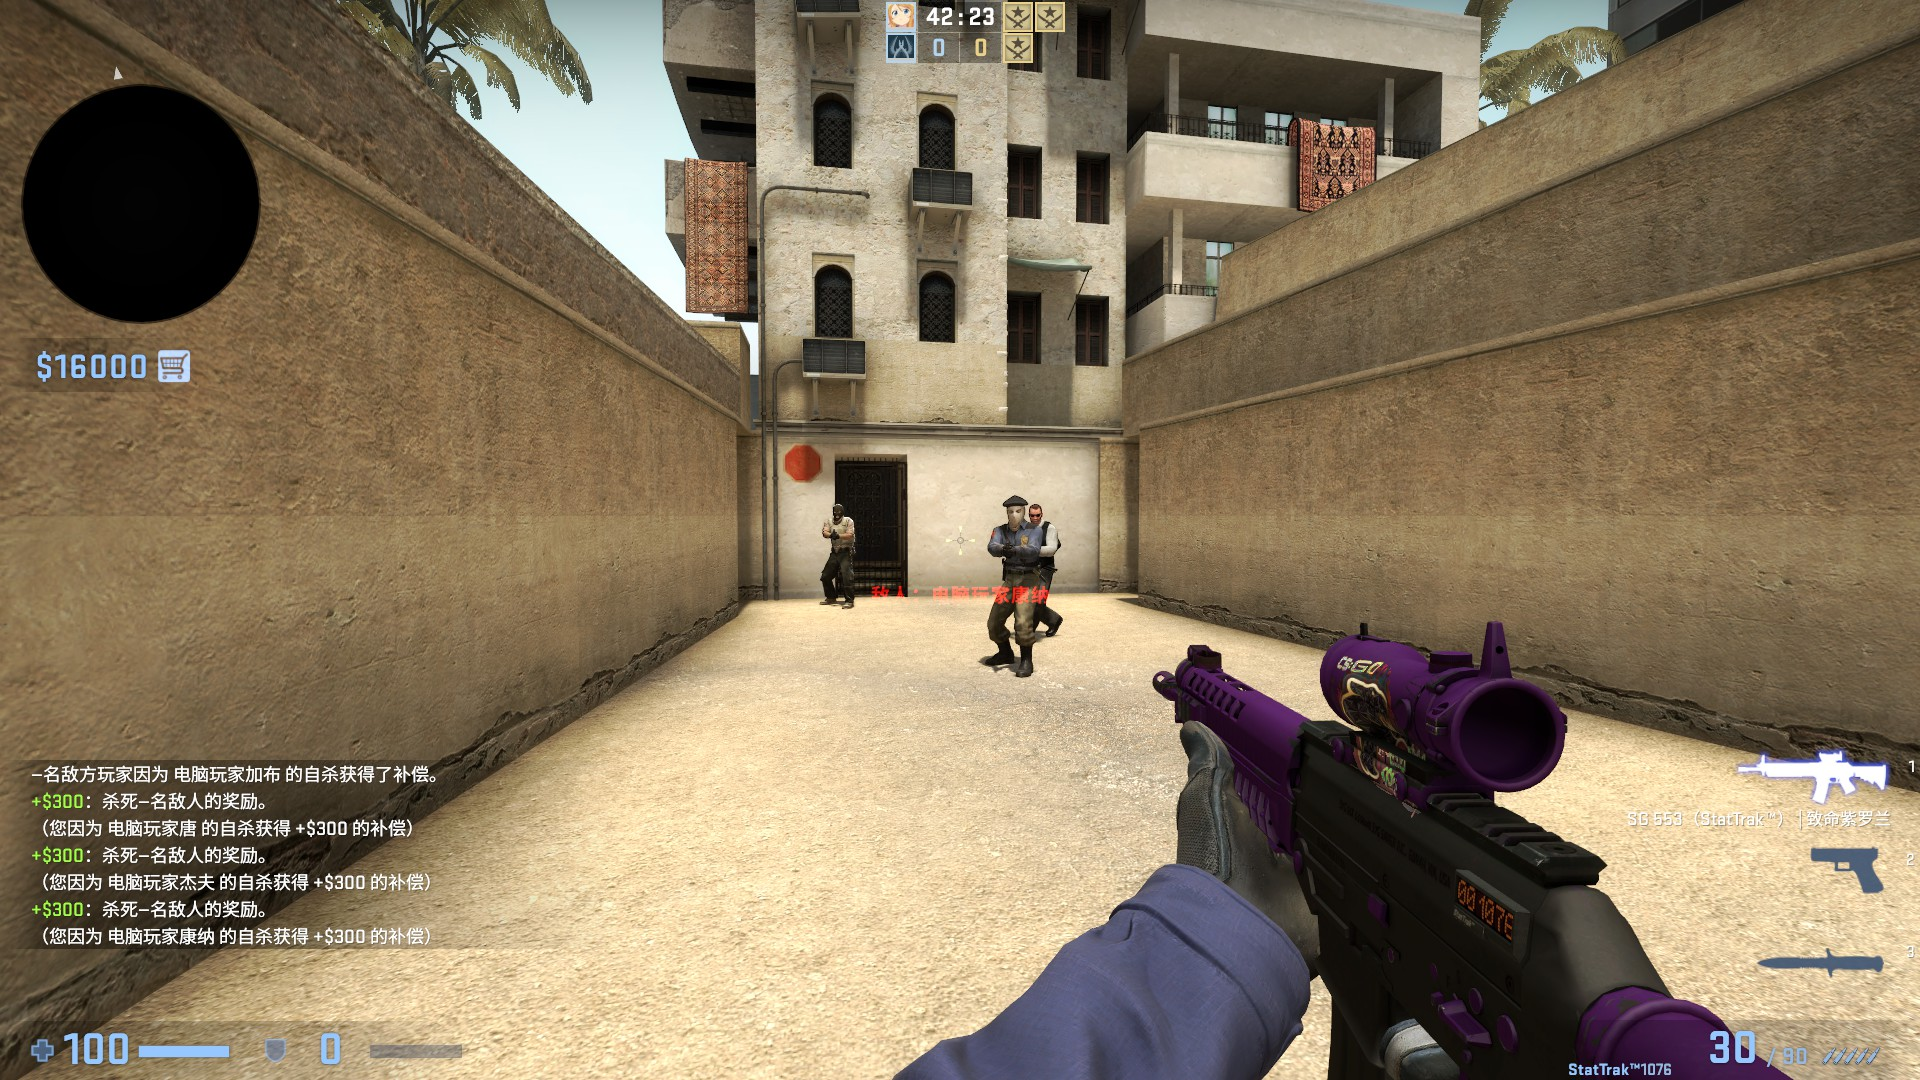head: (999, 493, 1027, 530), (1027, 503, 1043, 524), (830, 502, 843, 520)
